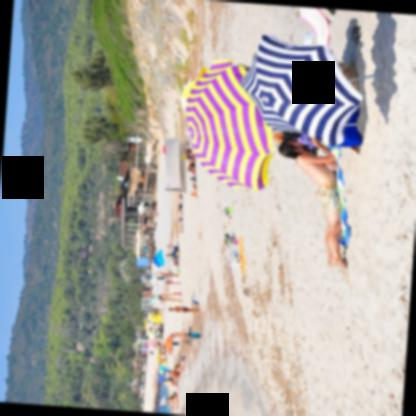handbag: (337, 60, 360, 90)
